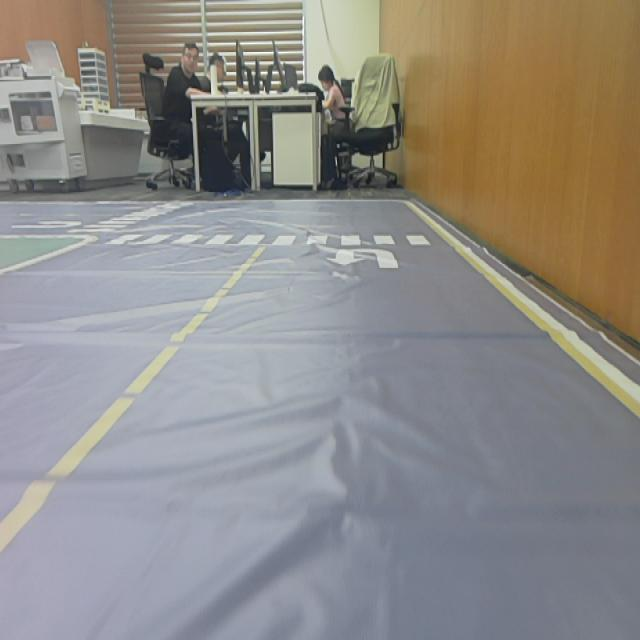left_lane: (0, 243, 264, 551)
right_lane: (406, 203, 640, 422)
